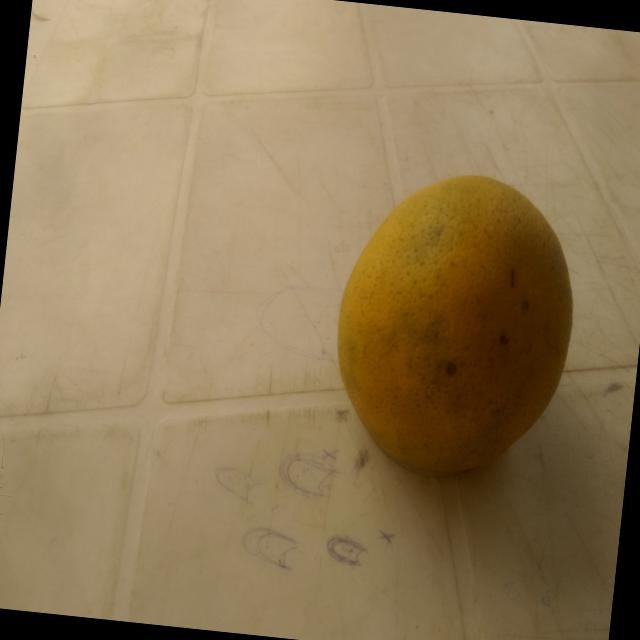agrume: (313, 154, 599, 521)
